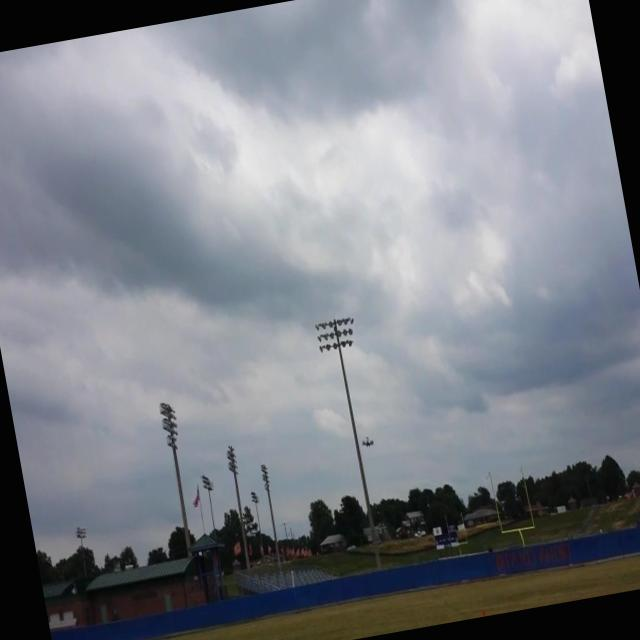drone: (358, 431, 376, 450)
